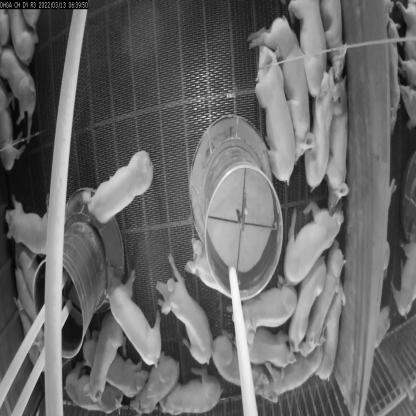Pig: (151, 255, 212, 373), (264, 26, 314, 158), (105, 256, 163, 360), (256, 36, 294, 193), (80, 146, 158, 219), (292, 183, 342, 271), (305, 250, 345, 351), (0, 47, 45, 133), (302, 68, 332, 192), (218, 330, 275, 394), (239, 277, 295, 340), (293, 0, 328, 92), (328, 104, 364, 192), (282, 259, 322, 334), (2, 195, 60, 246), (265, 356, 325, 400), (324, 299, 353, 380), (248, 323, 290, 378), (167, 376, 225, 415), (90, 319, 120, 394), (136, 351, 180, 399)
